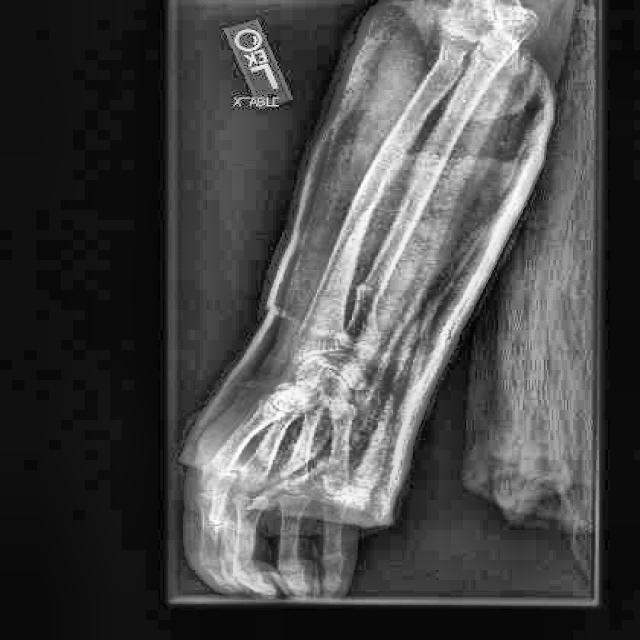forearm fracture: (324, 259, 396, 327)
